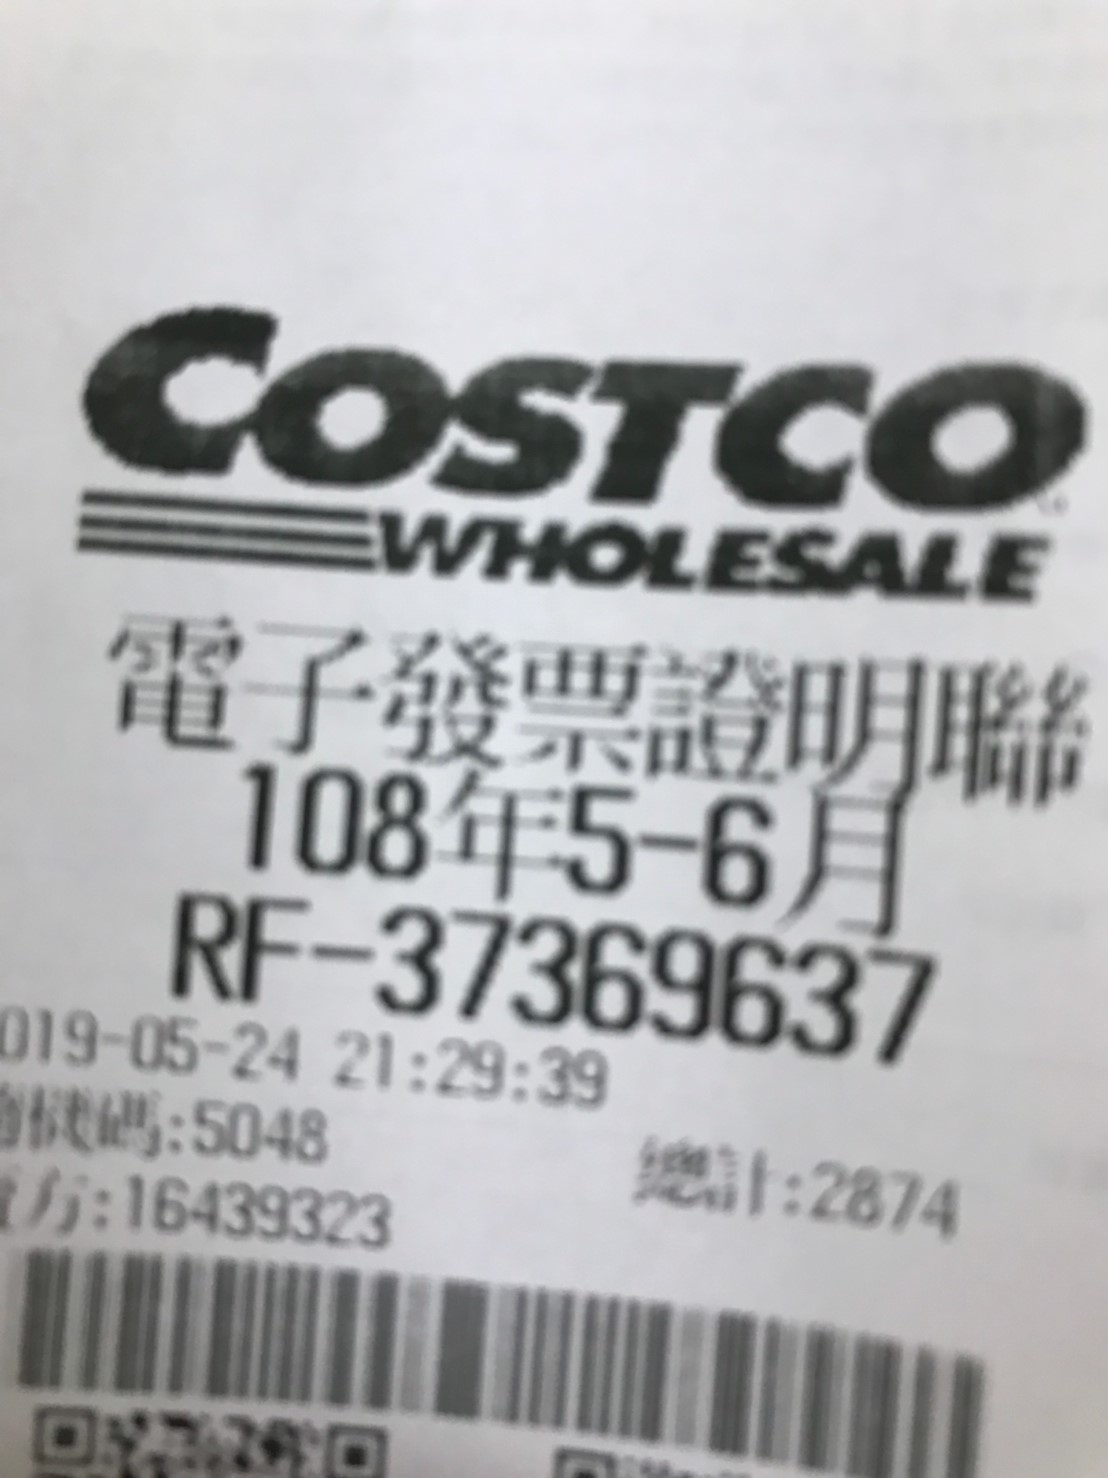Date_New: (236, 760, 917, 939)
Number_New: (376, 898, 940, 1067)
